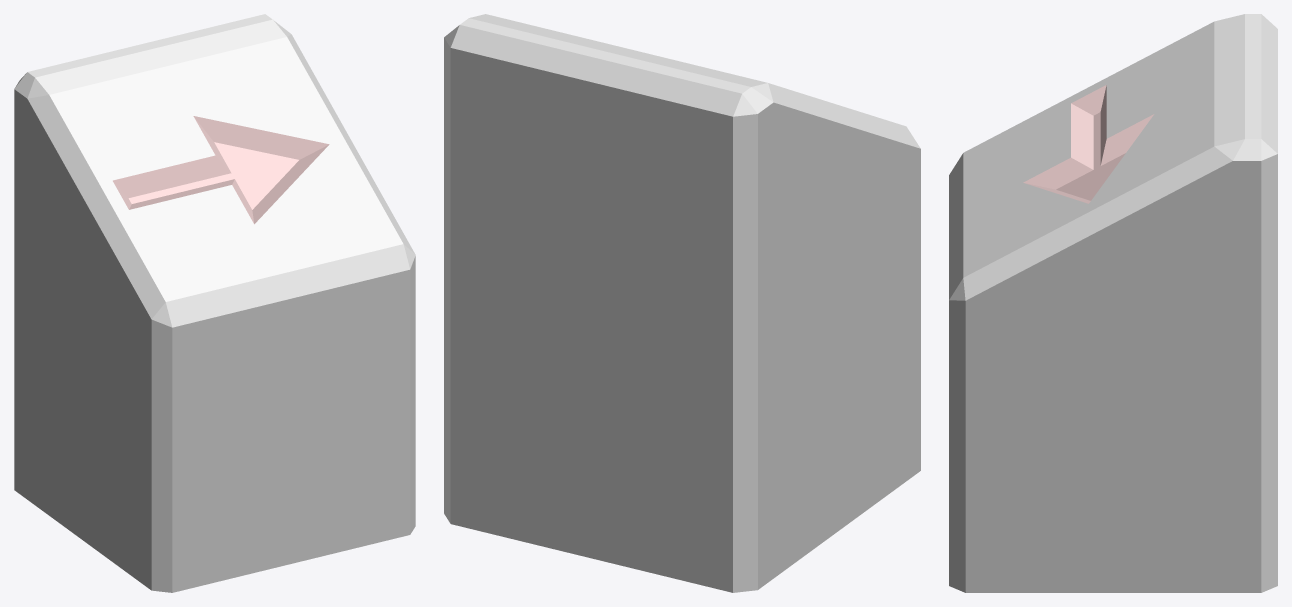
File: button.fbx
3 renders of one model, left to right at view 1: azimuth 30°, elevation 25°; view 2: azimuth 150°, elevation 25°; view 3: azimuth 270°, elevation 25°, orthographic. The views are drawn at different scales.
Visible parts, largest first — view 1: StartPost; view 2: StartPost; view 3: StartPost.
Part boxes in pixels (left/top/right/bottom): StartPost: left=14, top=14, right=415, bottom=592; StartPost: left=444, top=14, right=920, bottom=592; StartPost: left=949, top=14, right=1277, bottom=592.
Bounding box in the file's own units: 7874 × 11811 × 7874.
